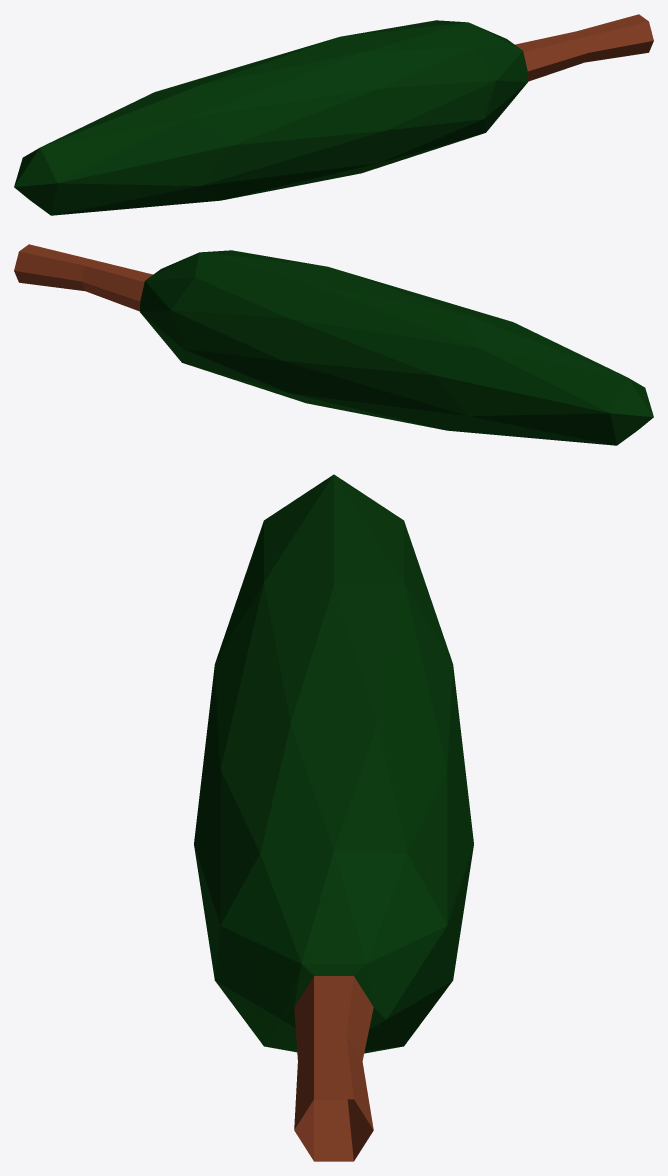
The model's file is Cyprus Tree 20m Terrain.fbx.
3 renders of one model, top to bottom at view 1: azimuth 30°, elevation 25°; view 2: azimuth 150°, elevation 25°; view 3: azimuth 270°, elevation 25°, orthographic. The views are drawn at different scales.
Visible parts, largest first — view 1: Cyprus Tree 20m; view 2: Cyprus Tree 20m; view 3: Cyprus Tree 20m.
Part boxes in pixels (box(x1,y1,x2,y2)): Cyprus Tree 20m: box(14, 14, 653, 215); Cyprus Tree 20m: box(14, 244, 653, 445); Cyprus Tree 20m: box(194, 474, 473, 1161).
Bounding box in the file's own units: 2000 × 366 × 385.
